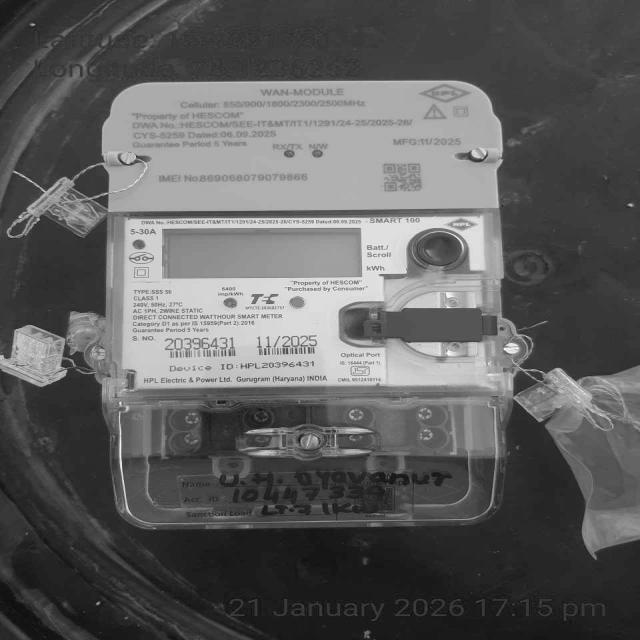meter: (98, 82, 505, 390)
